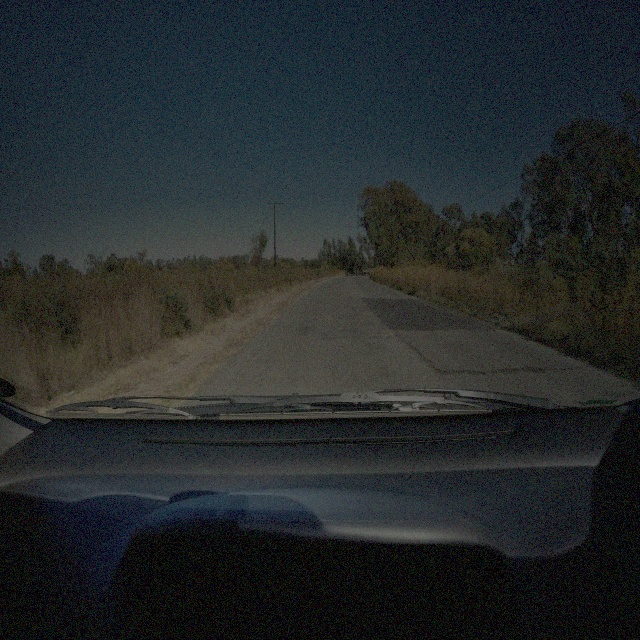pothole: (399, 332, 434, 371), (435, 367, 486, 378), (495, 364, 546, 374)
